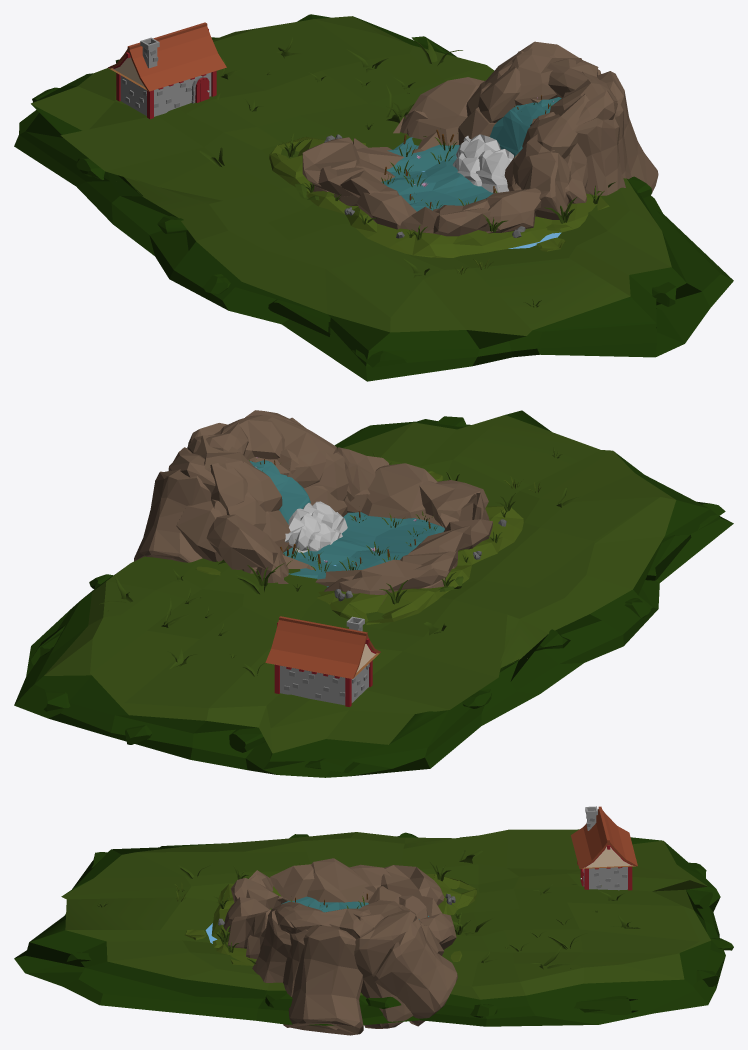
The model's file is pond_house.fbx.
The picture shows the model from 3 angles, top to bottom: view 1: azimuth 30°, elevation 25°; view 2: azimuth 150°, elevation 25°; view 3: azimuth 270°, elevation 25°; orthographic projection. The views are drawn at different scales.
Parts seen in each view (by area): view 1: Nature, Object_14, Object_8, Object_22, Houseroof, Object_5, Housemain, Object_18; view 2: Nature, Object_14, Object_22, Object_8, Houseroof, Object_5, Housemain, Object_18; view 3: Nature, Object_14, Object_8, Houseroof, Housemain, Object_18, Object_22, Housemain.002.
Part boxes in pixels (x1=…): Nature: x1=14, y1=14, x2=733, y2=381; Object_14: x1=302, y1=41, x2=658, y2=236; Object_8: x1=269, y1=133, x2=609, y2=257; Object_22: x1=381, y1=97, x2=561, y2=211; Houseroof: x1=108, y1=22, x2=226, y2=91; Object_5: x1=452, y1=134, x2=513, y2=192; Housemain: x1=120, y1=72, x2=211, y2=116; Object_18: x1=281, y1=102, x2=604, y2=240; Nature: x1=14, y1=410, x2=733, y2=777; Object_14: x1=134, y1=410, x2=492, y2=603; Object_22: x1=249, y1=460, x2=444, y2=587; Object_8: x1=196, y1=456, x2=523, y2=624; Houseroof: x1=265, y1=616, x2=380, y2=678; Object_5: x1=285, y1=501, x2=347, y2=552; Housemain: x1=275, y1=664, x2=368, y2=705; Object_18: x1=247, y1=452, x2=515, y2=604; Nature: x1=14, y1=829, x2=733, y2=1026; Object_14: x1=224, y1=858, x2=457, y2=1035; Object_8: x1=211, y1=874, x2=476, y2=965; Houseroof: x1=571, y1=806, x2=637, y2=868; Housemain: x1=589, y1=867, x2=627, y2=890; Object_18: x1=214, y1=861, x2=470, y2=952; Object_22: x1=281, y1=896, x2=428, y2=919; Housemain.002: x1=581, y1=846, x2=635, y2=868.
Bounding box in the file's own units: 4243 × 1375 × 6792.
